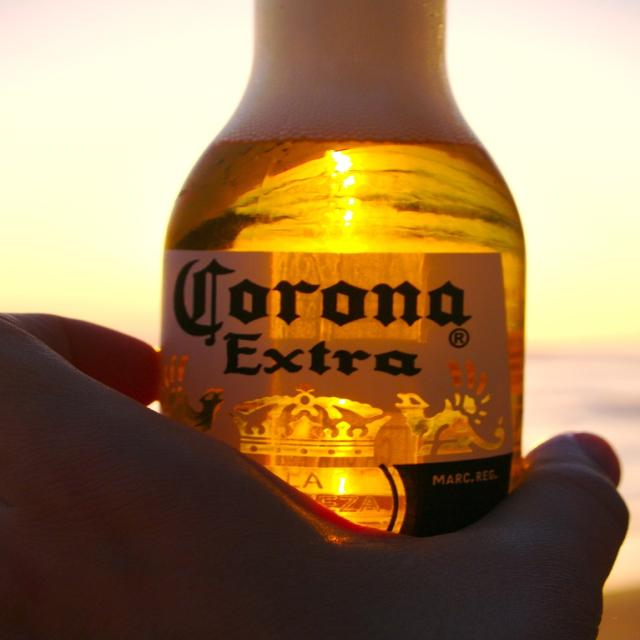corona: (161, 249, 515, 537)
